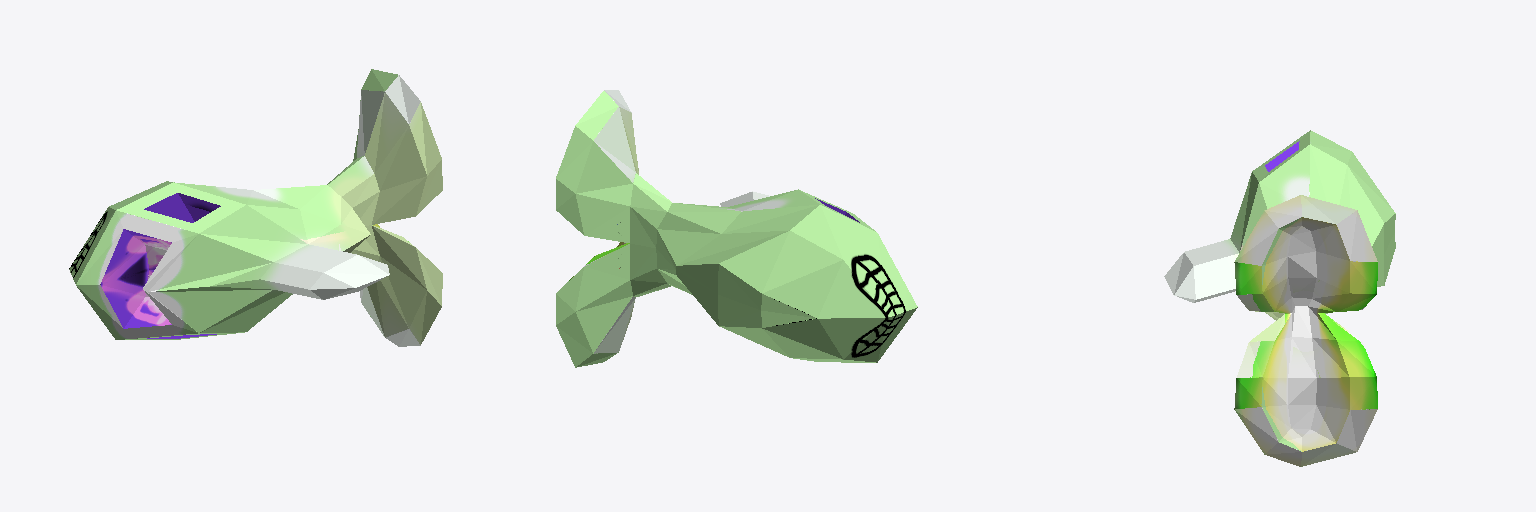
The picture shows the model from 3 angles: view 1: azimuth 30°, elevation 25°; view 2: azimuth 150°, elevation 25°; view 3: azimuth 270°, elevation 25°; orthographic projection.
Parts seen in each view (by area): view 1: Plane_Plane.001; view 2: Plane_Plane.001; view 3: Plane_Plane.001.
Boxes of the visible parts, x1,y1,x2,y2 form: Plane_Plane.001: [69, 69, 442, 346]; Plane_Plane.001: [556, 90, 917, 367]; Plane_Plane.001: [1164, 130, 1395, 466].
Size of the model in its own units: 7.05 by 5.56 by 4.28.
Materials: 1 (1 with a texture image).